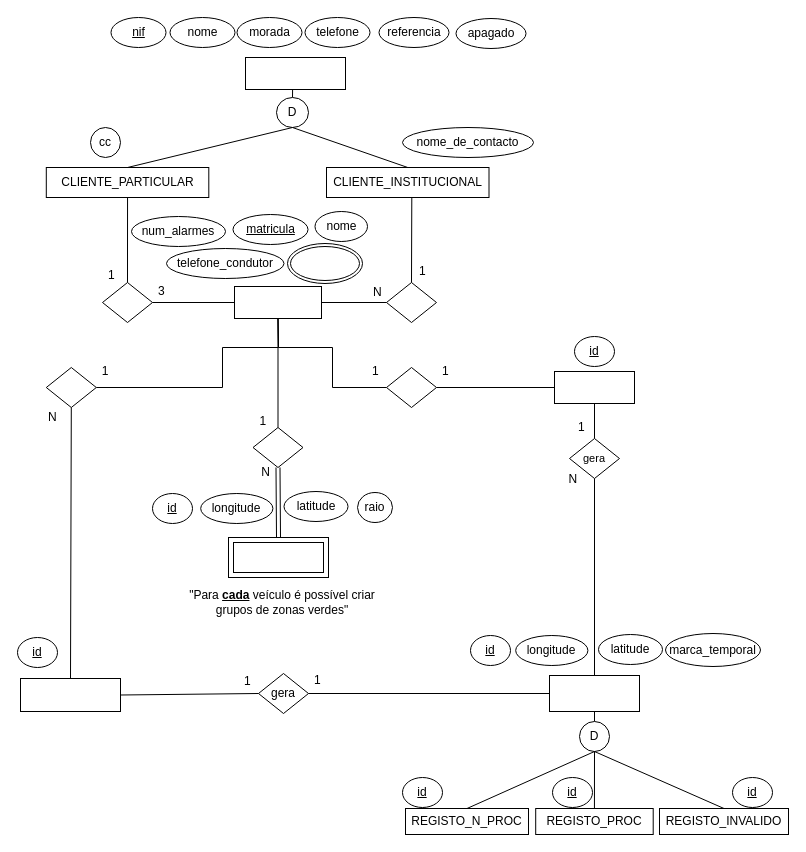
This 806x852 diagram has some shape labels left out. Each missing label, with the box of its shape:
ALARME: (20, 678, 120, 712)
CLIENTE: (244, 56, 346, 90)
estado_gps: (286, 242, 362, 284)
GPS: (554, 370, 634, 404)
REGISTO: (548, 674, 640, 712)
VEICULO: (234, 286, 322, 318)
Zona Verde: (228, 536, 328, 578)
